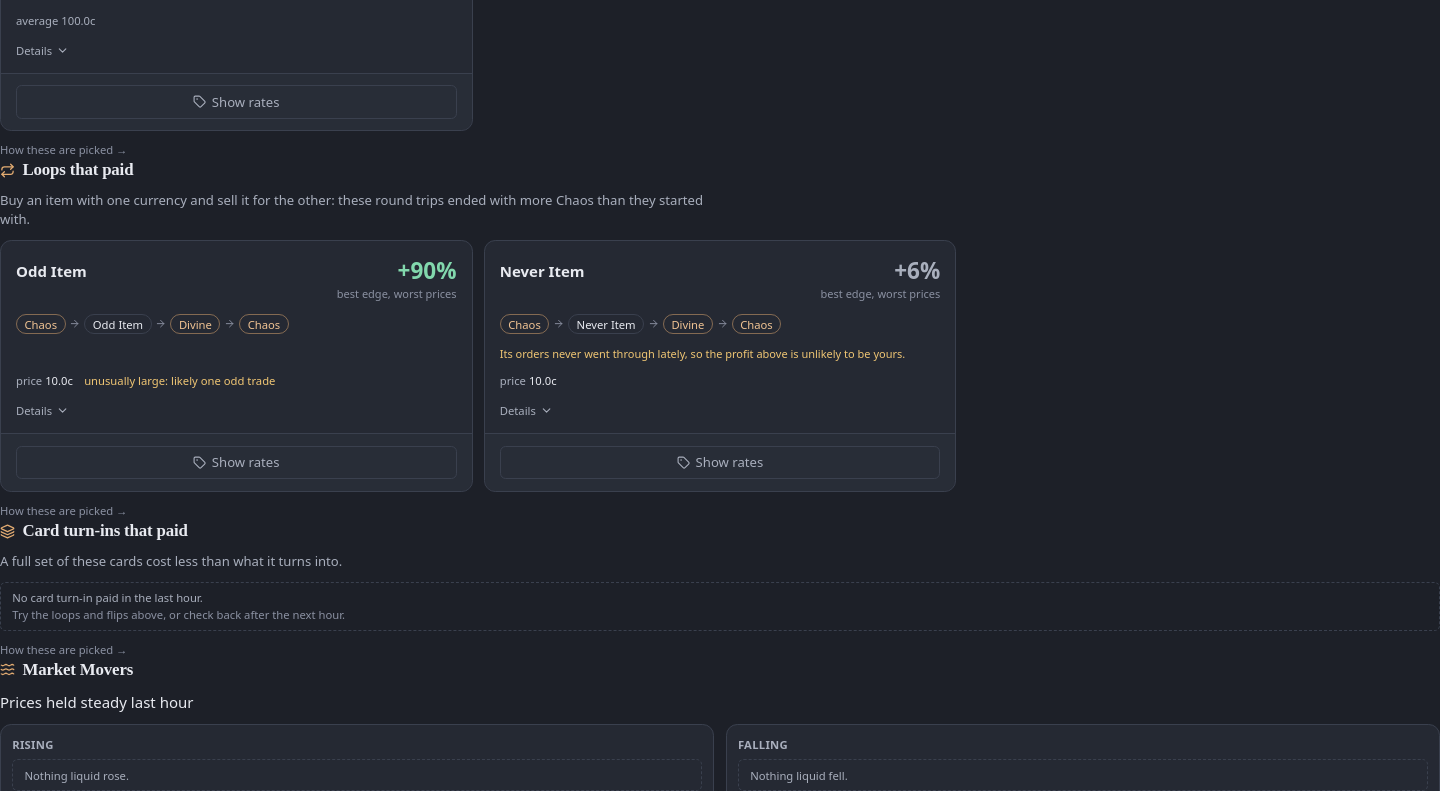
Test: Market recap: loops and flips › keeps the odds behind Details, and the warnings on the card
(page scrolled)
Expected: the text "+90%" is shown, [398,255,456,286]
Expected: the text "unusually large: likely one odd trade" is shown, [84,373,275,388]
Click the button "Details" below "unusually large: likely one odd trade". click: click(42, 411)
box: [16,396,69,426]
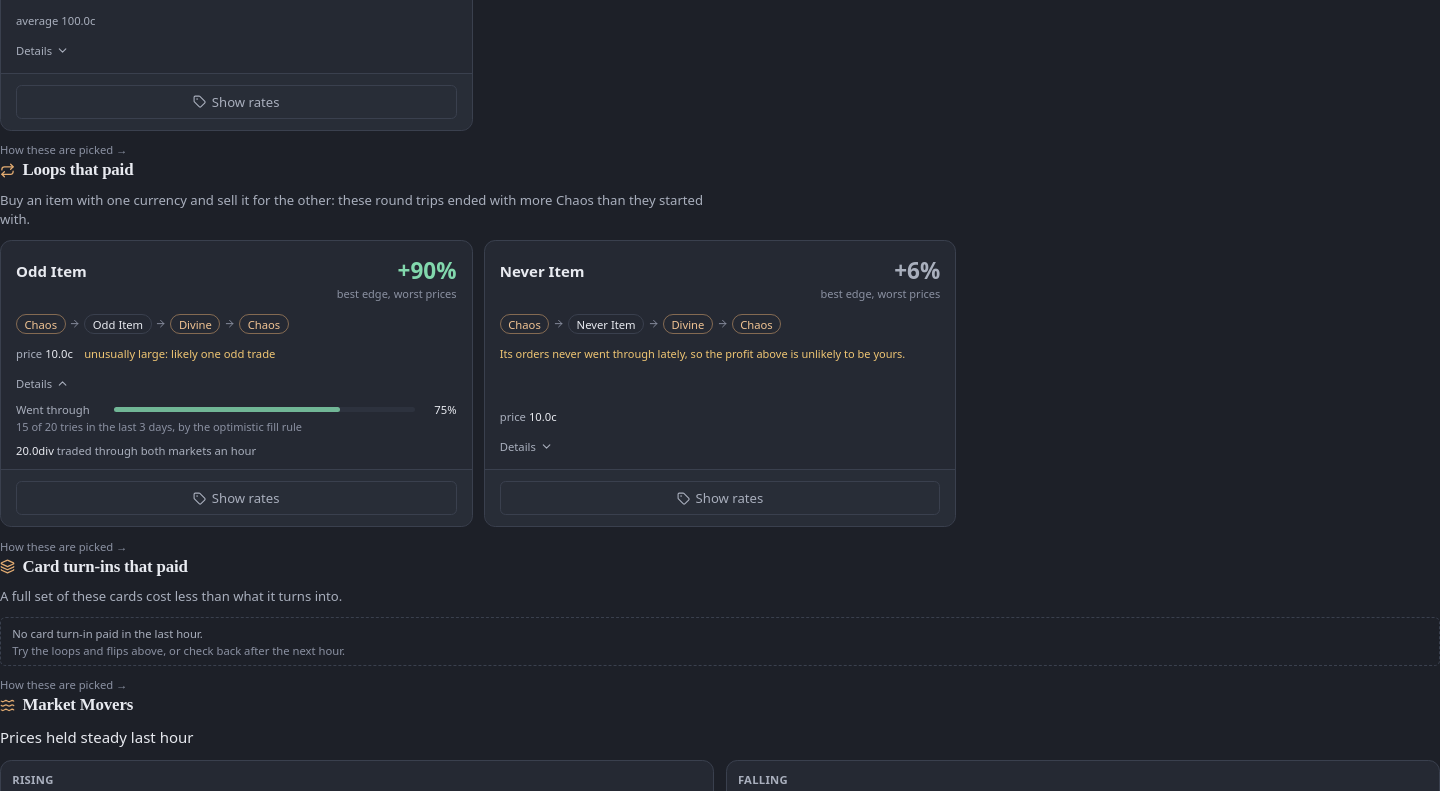
Expected: the button "Details" below "unusually large: likely one odd trade" is expanded, [16,368,69,398]
Expected: the text "15 of 20 tries in the last 3 days, by the optimistic fill rule" is shown, [16,419,302,434]
Expected: the text "75%" is shown, [434,402,456,417]
Click the button "Details" below "per flip, if both orders fill". click: click(42, 50)
box: [16,35,69,65]
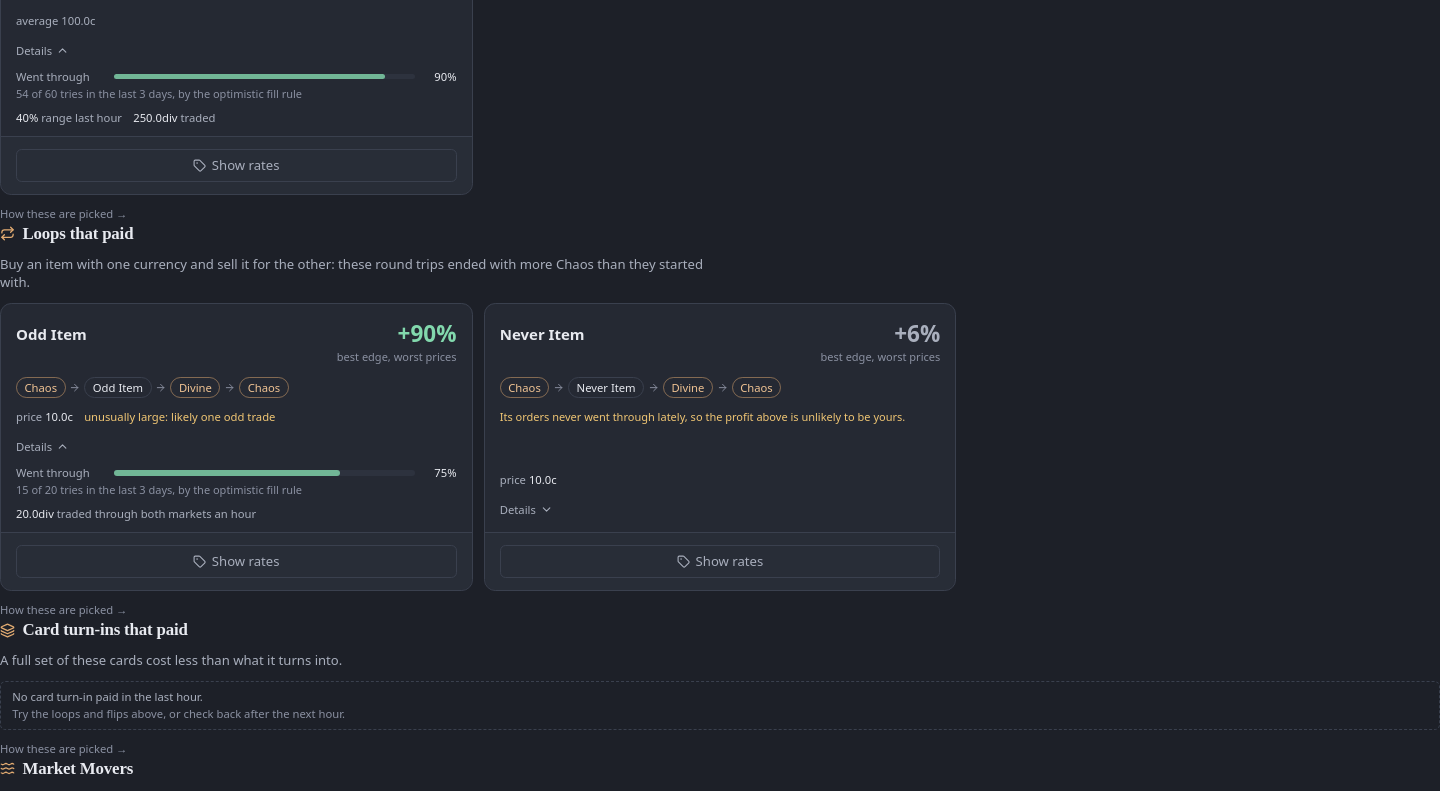
Expected: the text "90%" is shown, [434,69,456,84]
Expected: the text "54 of 60 tries in the last 3 days, by the optimistic fill rule" is shown, [16,86,302,101]
Expected: the text "40% range last hour" is shown, [16,110,122,125]
